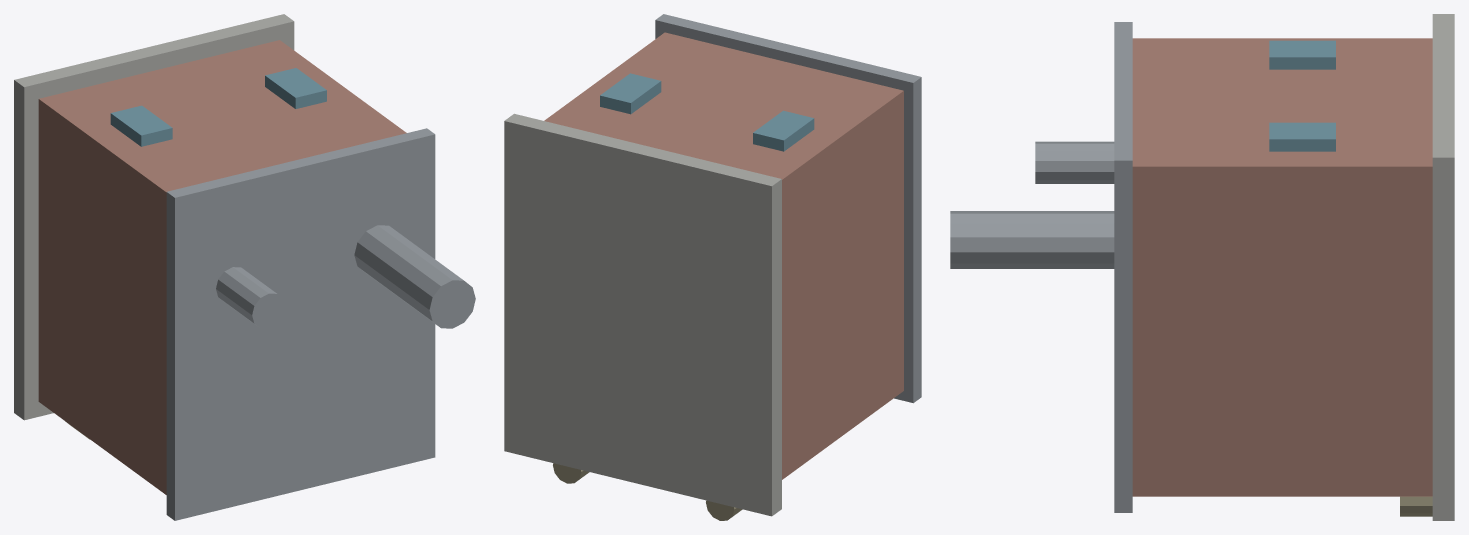
The model's file is AGE_V_industrial.glb.
3 views of the same model, side by side, from view 1: azimuth 30°, elevation 25°; view 2: azimuth 150°, elevation 25°; view 3: azimuth 270°, elevation 25° (orthographic). The views are drawn at different scales.
Visible parts, largest first — view 1: world; view 2: world; view 3: world.
Boxes of the visible parts, <box> form: world: <box>14,14,475,520</box>; world: <box>504,14,921,520</box>; world: <box>950,14,1454,520</box>.
Bounding box in the file's own units: 5.6 × 7.05 × 8.3.
